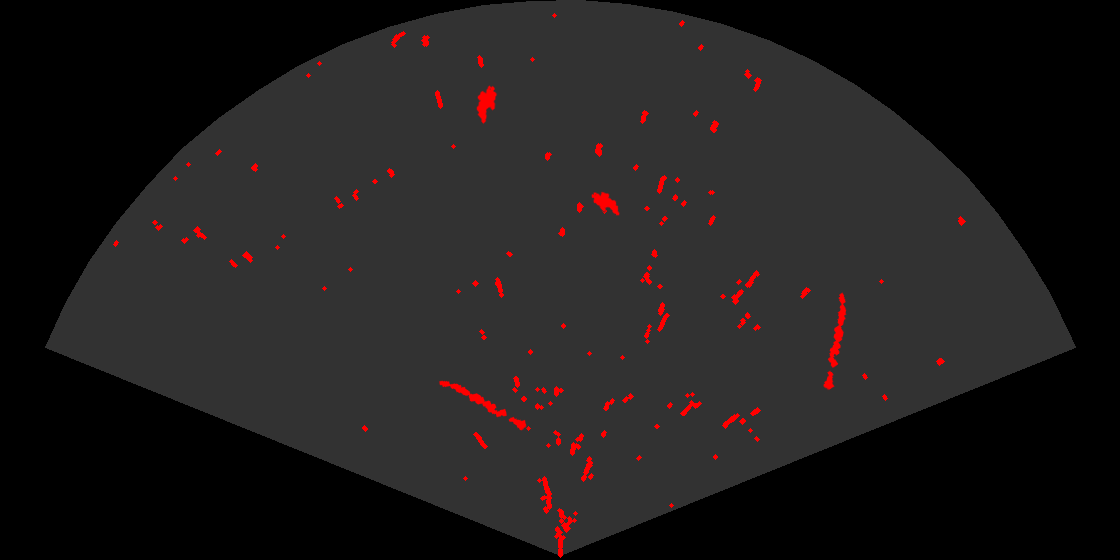AUV: (475, 84, 499, 126), (590, 190, 621, 217)
chain: (438, 379, 528, 432), (822, 291, 848, 392)
